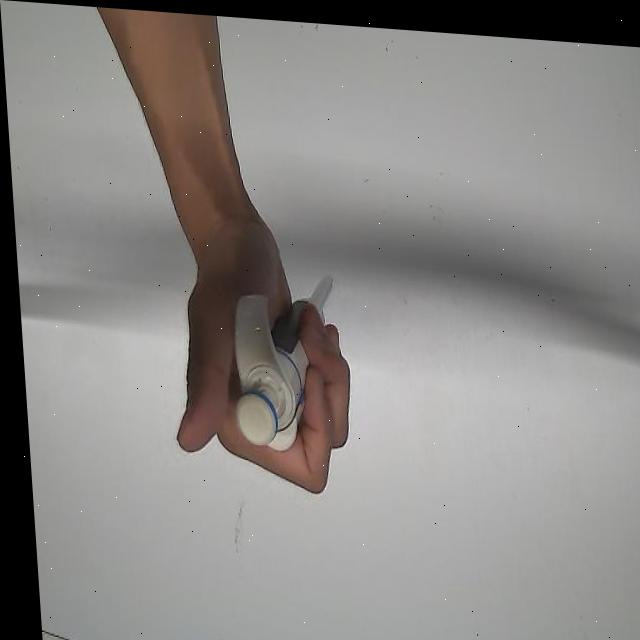Single Channel Pipettor: (219, 258, 345, 455)
